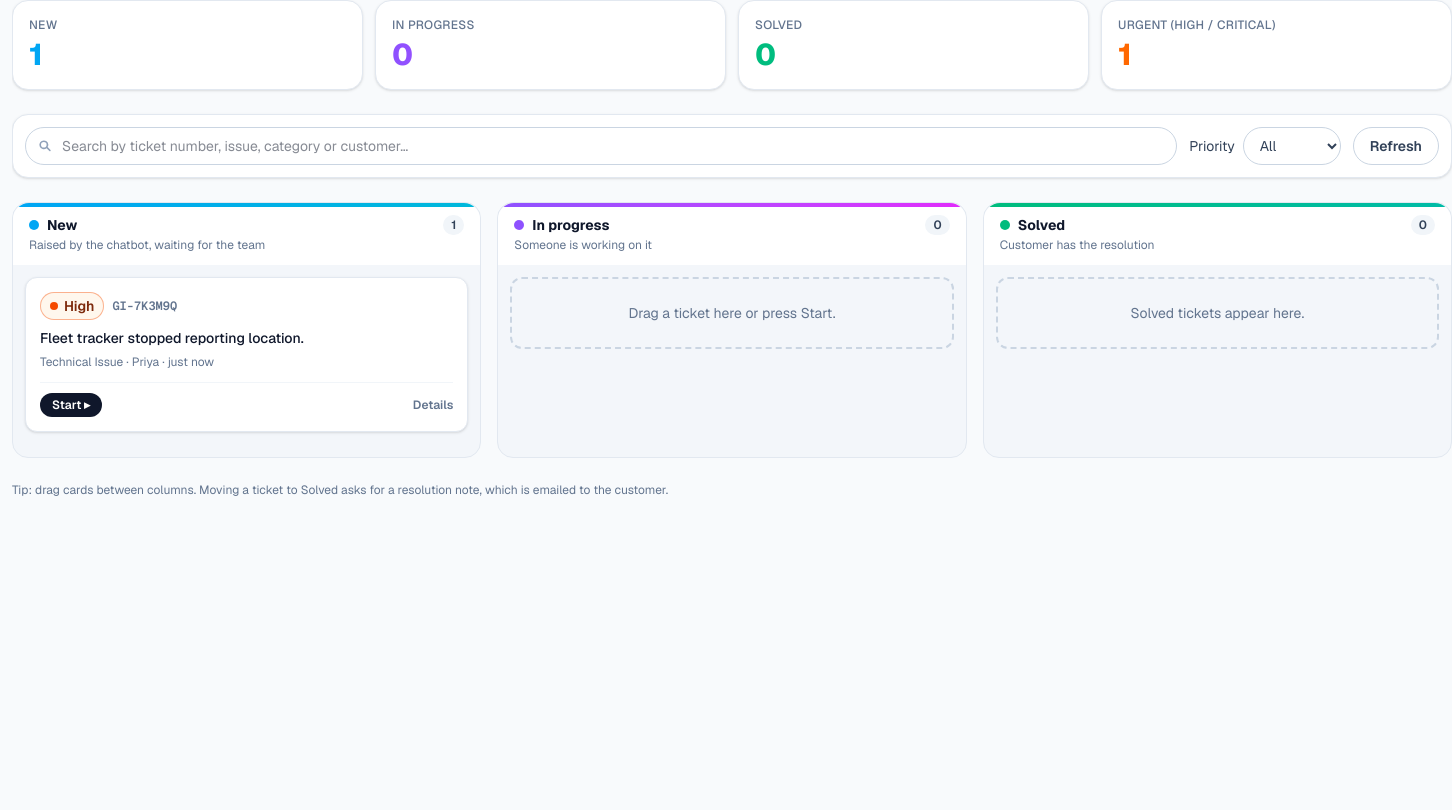
Test: TicketsBoard › moves a new ticket to In progress with the Start button
Expected: the text "Fleet tracker stopped reporting location." is shown, x1=40 y1=329 x2=304 y2=347
Click the button "Start ▸" at (71, 405), box x1=40 y1=393 x2=102 y2=417
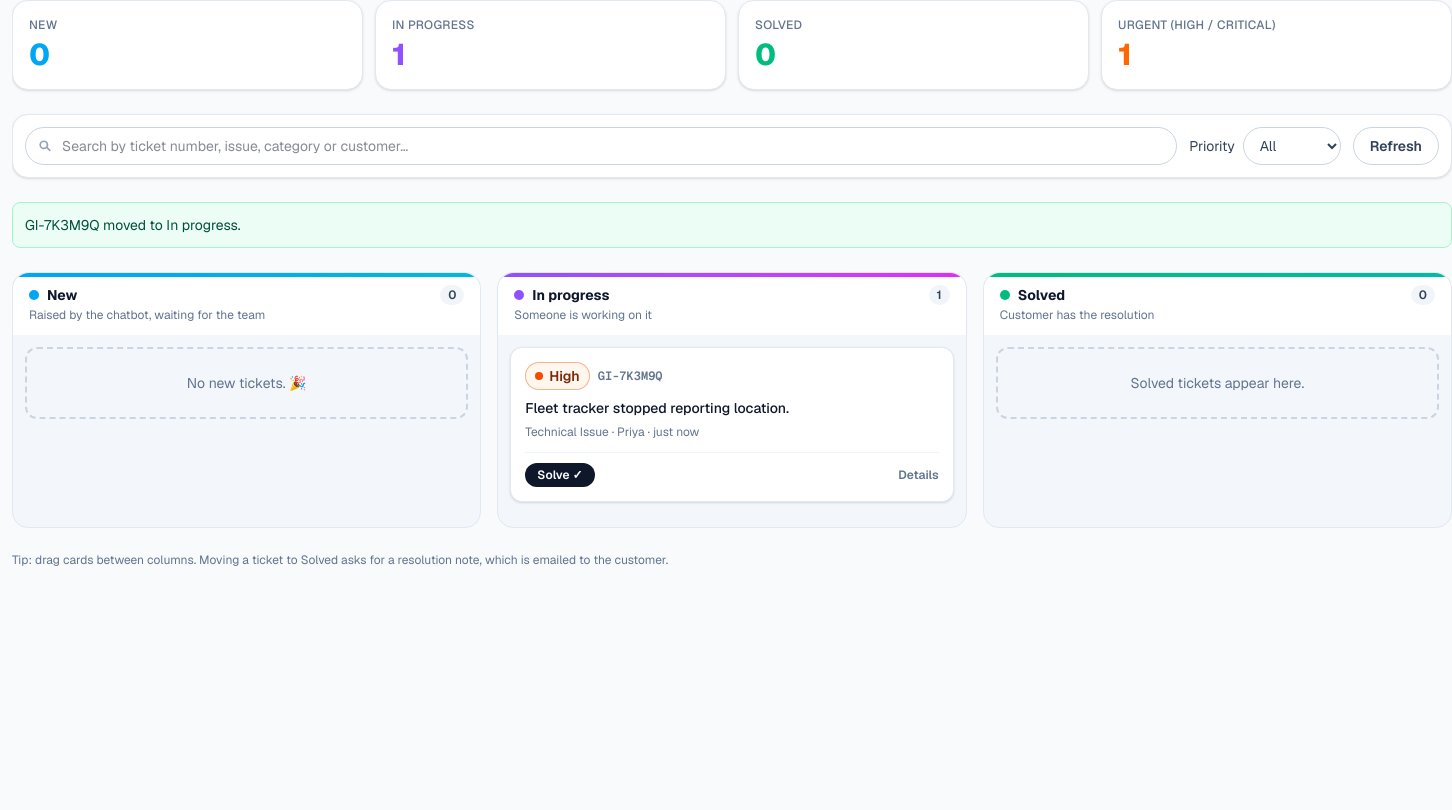
Expected: the text "Fleet tracker stopped reporting location." is shown, x1=525 y1=399 x2=789 y2=417
Expected: the text "GI-7K3M9Q moved to In progress." is shown, x1=12 y1=202 x2=1451 y2=248
